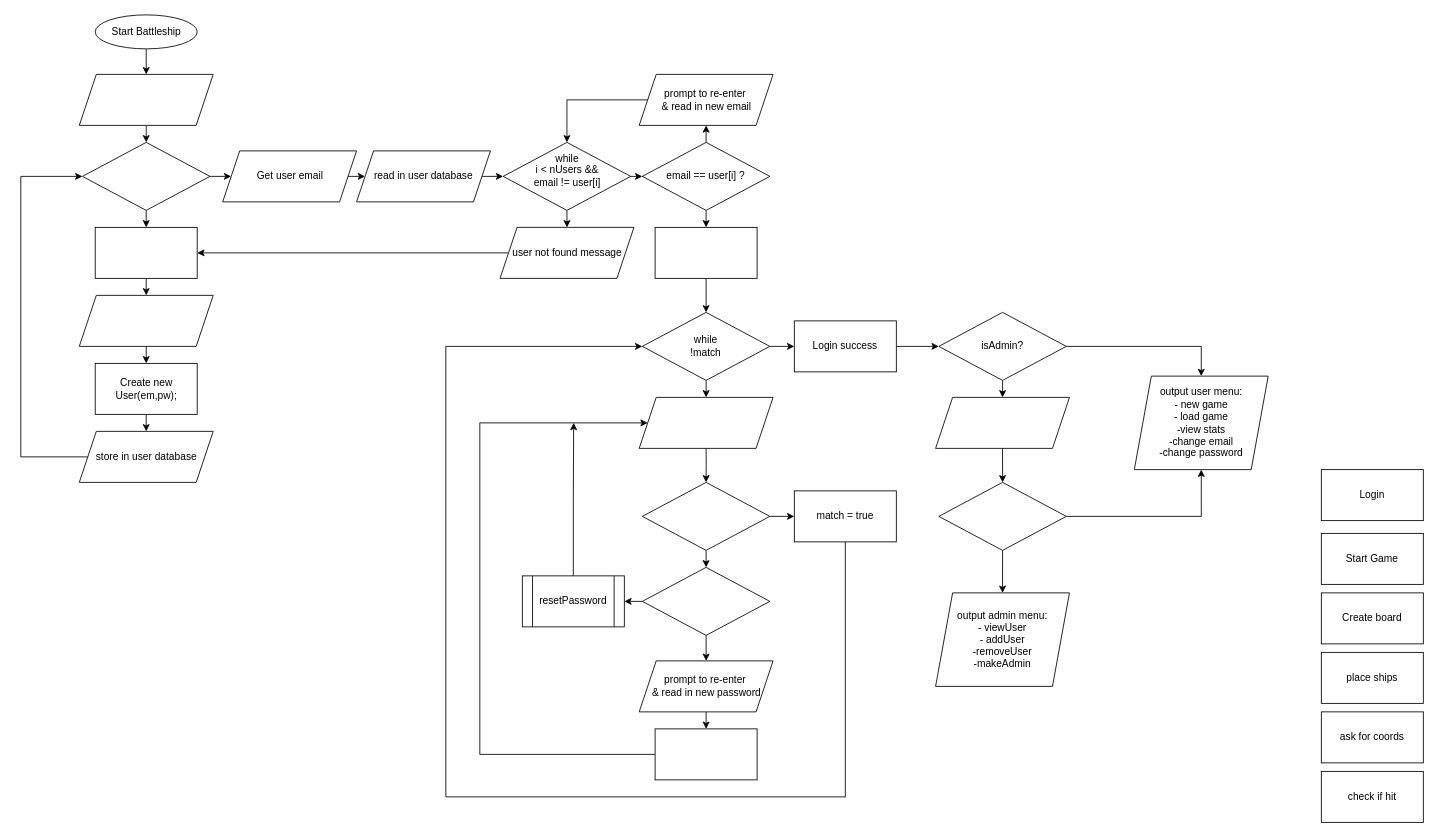
The diagram is 1438 pixels wide and 837 high, and some of its shapes have lost their labels. Each missing label, with the centre of its shape:
"admin Menu?" belongs at point 1002,516.
"ask for password" belongs at point 705,422.
"ask which menu" belongs at point 1002,422.
"Begin new user registration" belongs at point 145,252.
"Display Login Menu (login or register)" belongs at point 145,99.
"Get user email & password" belongs at point 145,320.
"i = 0 match = false" belongs at point 705,252.
"i == 3?" belongs at point 705,601.
"i++" belongs at point 705,754.
"Login?" belongs at point 146,176.
"password = user[i] ?" belongs at point 705,516.
